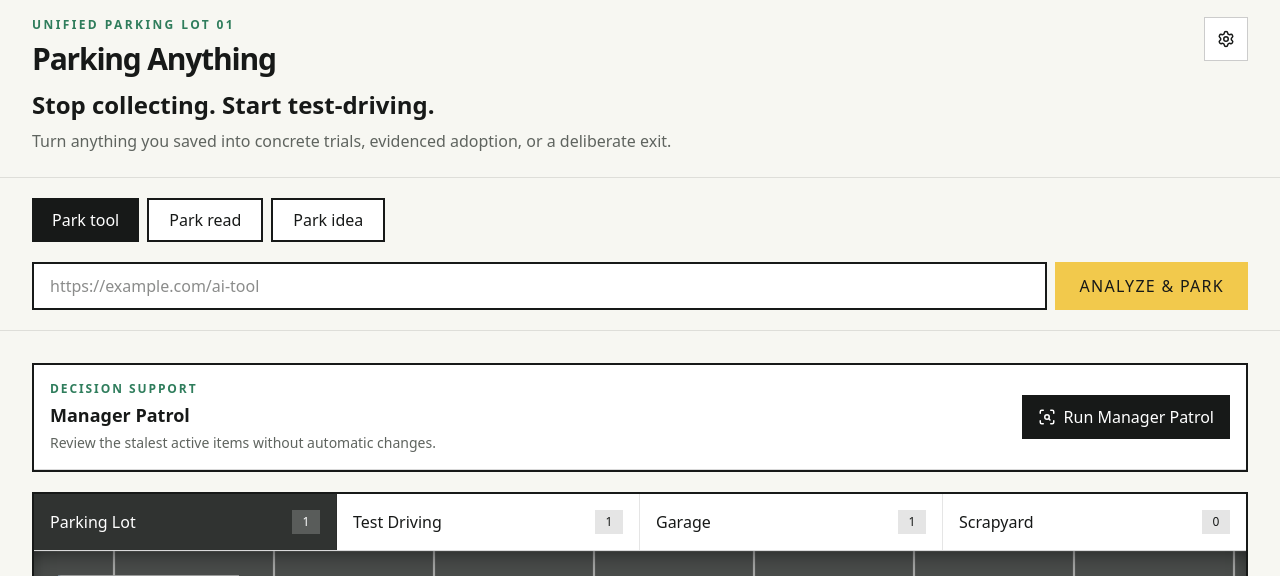
Scenario: ParkingApp live analysis › creates exactly one client-owned parked item from a valid response
The image size is (1280, 576).
Type "https://example.com/tool" into the field named "AI tool URL" at (540, 286), box [32,262,1048,310]
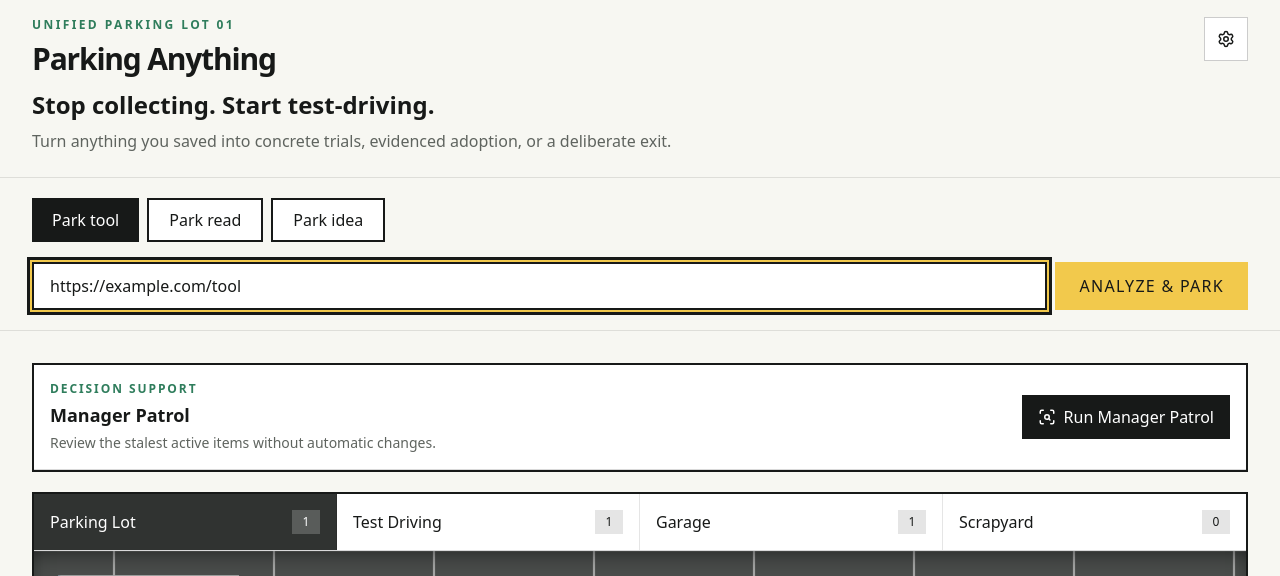
Click the button "Analyze & Park" at (1152, 286), box [1056,262,1248,310]
(page scrolled)
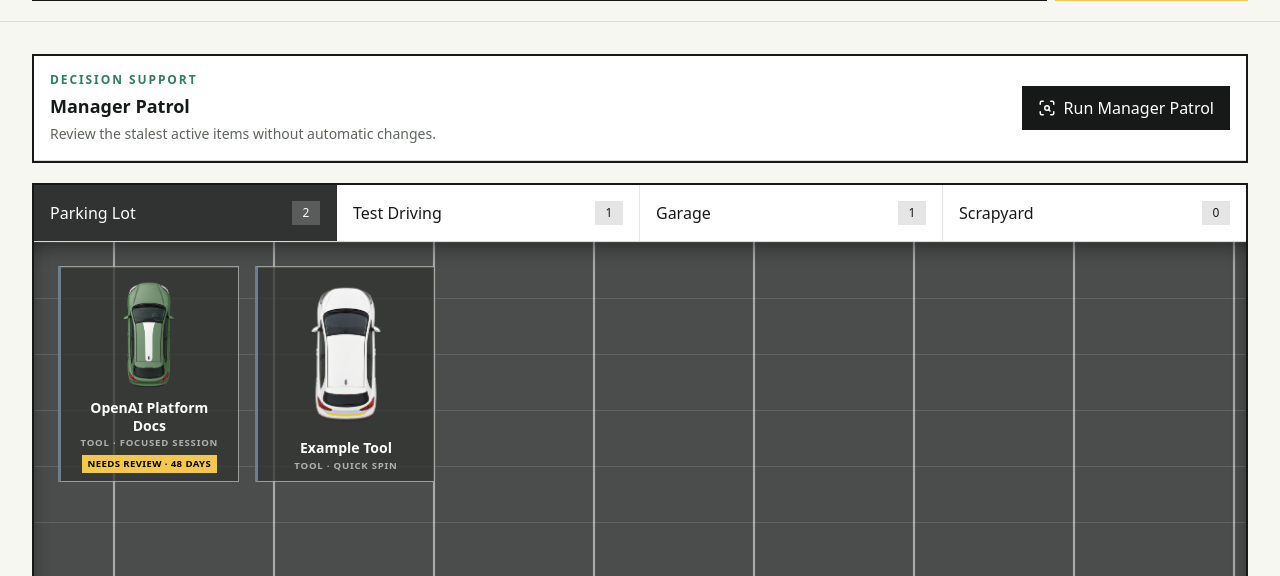
Expected: the button with aria-label "Example Tool, Parked" is shown, [255,266,435,482]
